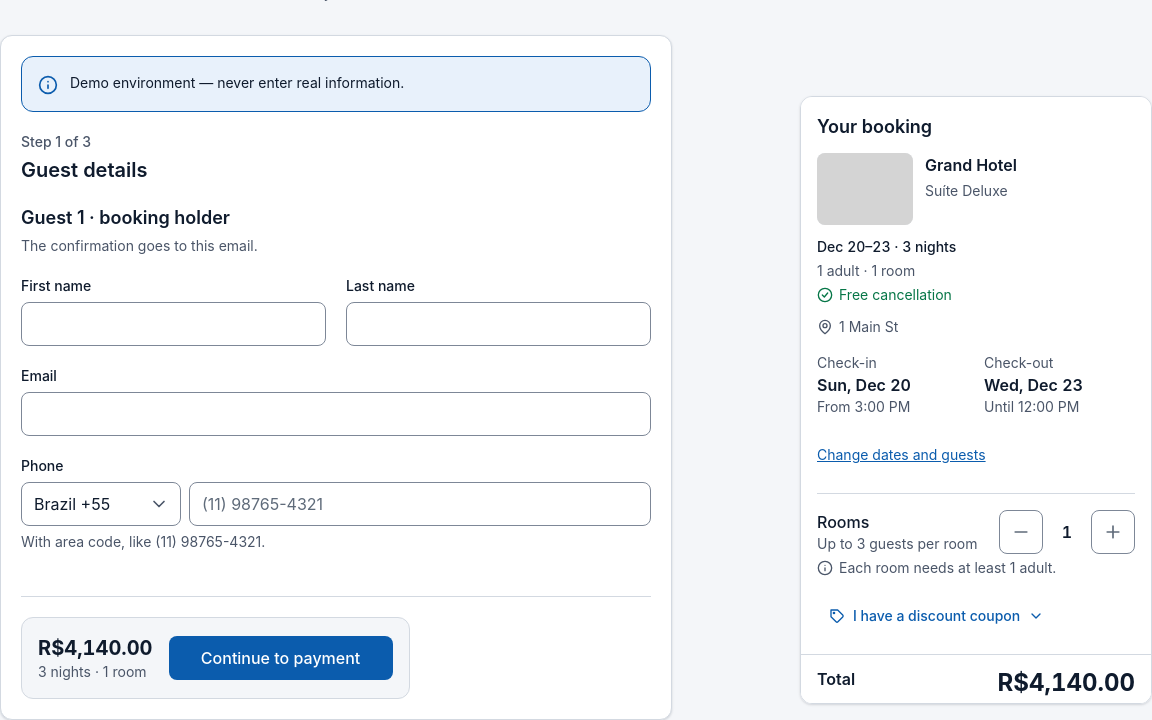
Test: checkout em en-US › erros de validação vêm em inglês (campo e resumo) e nada em português
The width and height of the screenshot is (1152, 720).
(page scrolled)
Expected: the heading "Guest details" is shown, [21,158,148,182]
Click the button "Continue to payment": [281, 658] box [169,636,393,680]
(page scrolled)
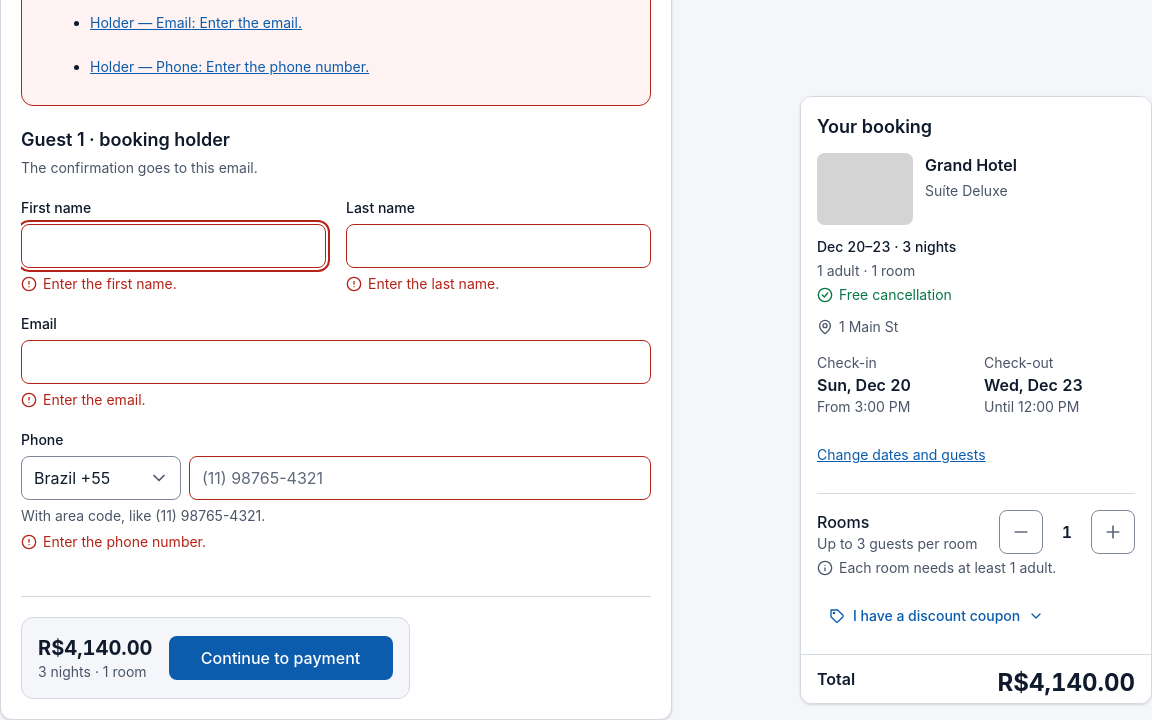
Expected: the text "Enter the first name." is shown, [43,274,177,294]
Expected: the text "Enter the email." is shown, [43,390,146,410]
Expected: the text "Enter the phone number." is shown, [43,532,206,552]
